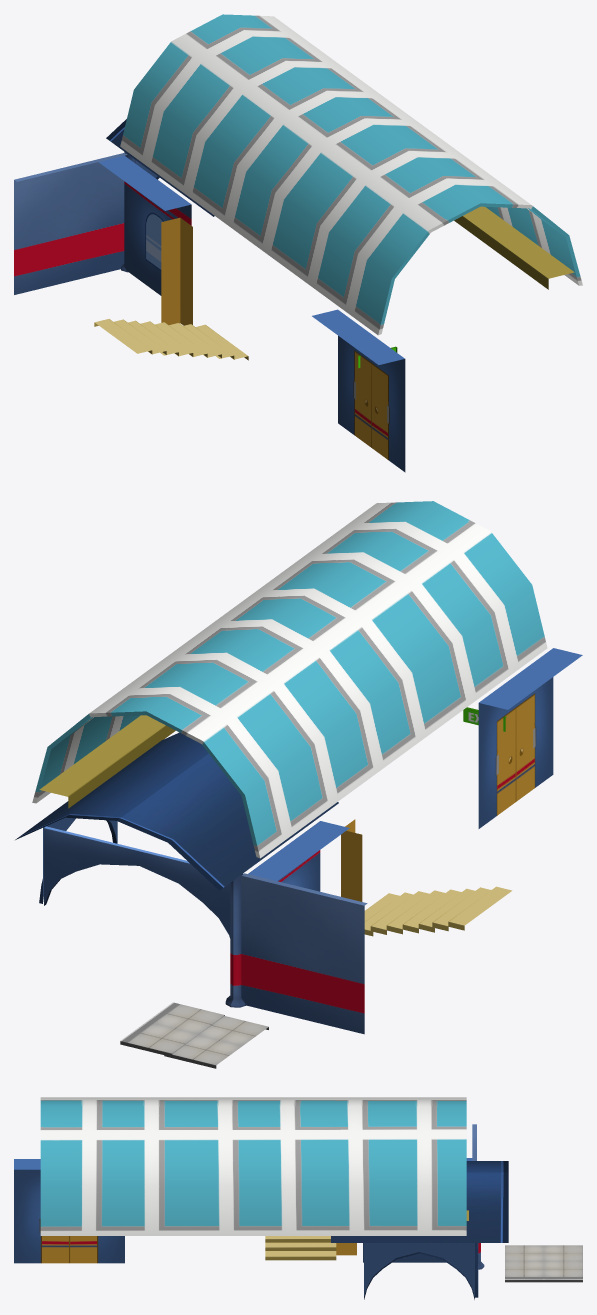
Rendered from Map3.fbx.
The picture shows the model from 3 angles, top to bottom: view 1: azimuth 30°, elevation 25°; view 2: azimuth 150°, elevation 25°; view 3: azimuth 270°, elevation 25°; orthographic projection. The views are drawn at different scales.
Parts seen in each view (by area): view 1: Maitren, polySurface4, Tuong2, TUong1, Cauthang, Maitren2, Cot2; view 2: Maitren, polySurface4, Maivom, Tuong2, Tran1, Viahe, Cauthang, Maitren2, TUong1, Cot, Cot2; view 3: Maitren, Tuong2, Maivom, Viahe, Tran2, Cauthang, TUong1.
Part boxes in pixels (x1,y1,x2,y2): Maitren: (120,14,582,335); polySurface4: (14,153,127,294); Tuong2: (312,309,405,472); TUong1: (98,155,191,295); Cauthang: (94,319,248,360); Maitren2: (454,206,574,289); Cot2: (161,217,192,325); Maitren: (32,501,547,858); polySurface4: (241,873,367,1034); Maivom: (15,732,338,890); Tuong2: (478,648,582,828); Tran1: (44,826,230,938); Viahe: (120,1002,268,1068); Cauthang: (364,886,512,936); Maitren2: (39,715,175,808); TUong1: (248,821,349,891); Cot: (225,873,245,1007); Cot2: (341,819,362,901); Maitren: (40,1097,466,1235); Tuong2: (14,1159,124,1263); Maivom: (331,1161,508,1242); Viahe: (505,1245,582,1282); Tran2: (364,1243,474,1299); Cauthang: (265,1236,336,1260); TUong1: (363,1158,472,1262).
Bounding box in the file's own units: 115 × 83.77 × 221.
